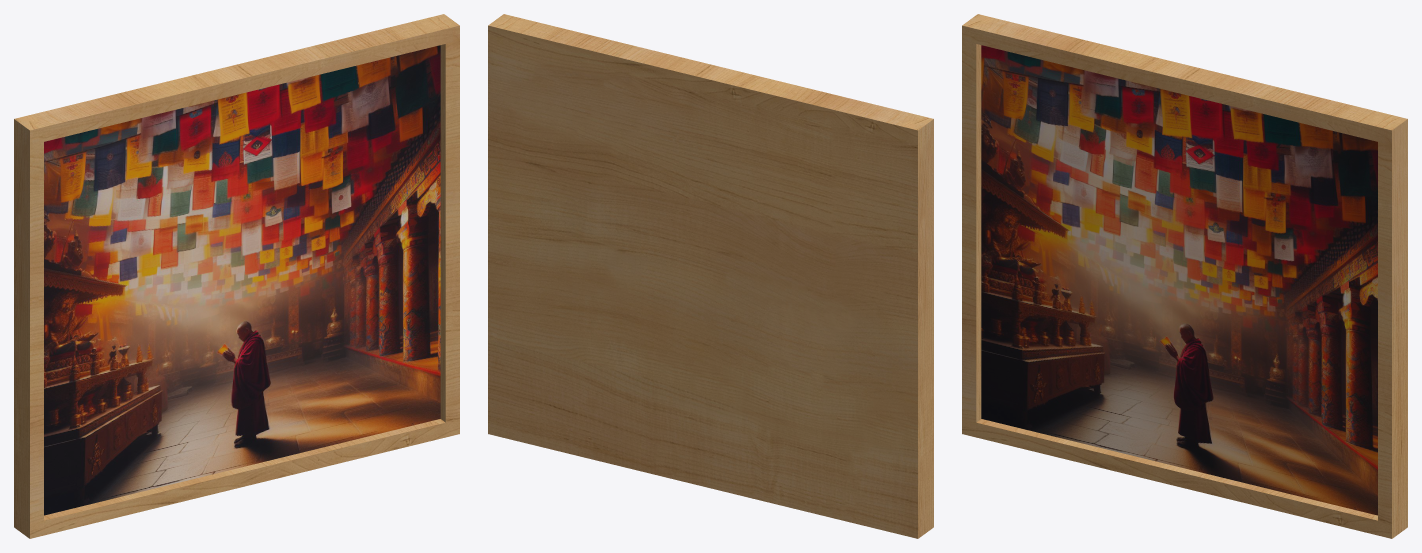
File: Picture 12.fbx
3 views of the same model, side by side, from view 1: azimuth 30°, elevation 25°; view 2: azimuth 150°, elevation 25°; view 3: azimuth 330°, elevation 25° (orthographic).
Parts seen in each view (by area): view 1: picture 12; view 2: picture 12; view 3: picture 12.
Part boxes in pixels (bbox=[...]): picture 12: bbox=[14, 14, 459, 538]; picture 12: bbox=[488, 14, 933, 538]; picture 12: bbox=[962, 14, 1407, 538].
Bounding box in the file's own units: 113 × 103 × 7.19.
Materials: 2 (2 with a texture image).
